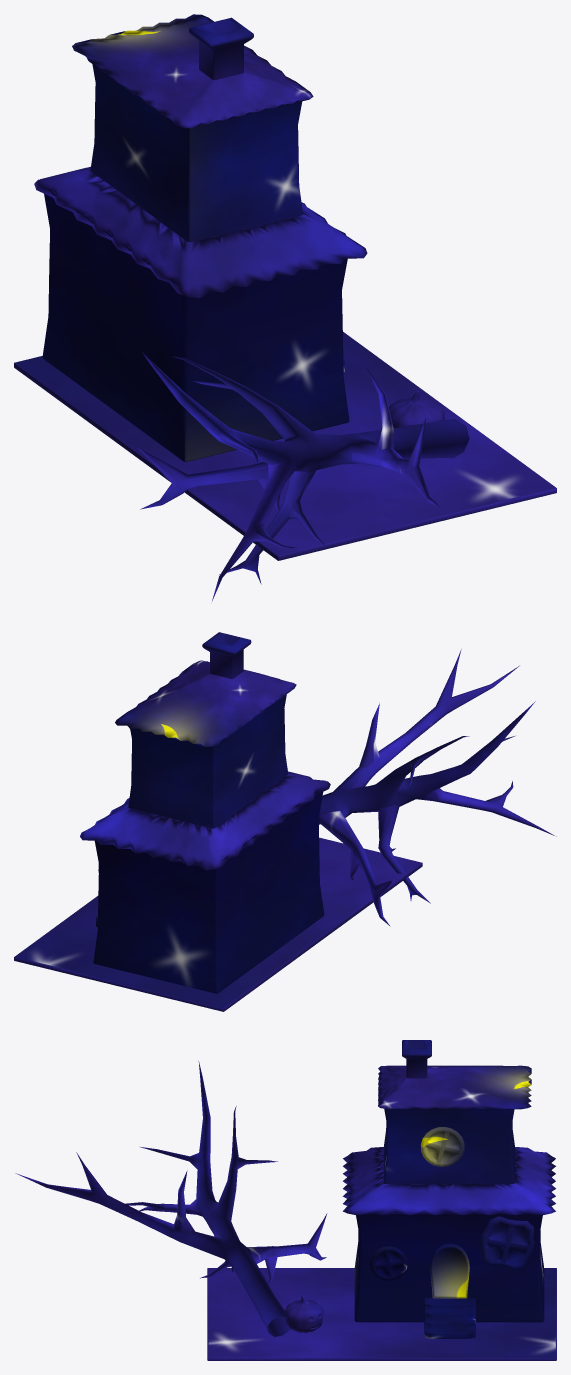
Rendered from casa.obj.
3 renders of one model, top to bottom at view 1: azimuth 30°, elevation 25°; view 2: azimuth 150°, elevation 25°; view 3: azimuth 270°, elevation 25°, orthographic. The views are drawn at different scales.
Parts seen in each view (by area): view 1: Cube_001; view 2: Cube_001; view 3: Cube_001.
Part boxes in pixels (left/top/right/bottom): Cube_001: left=14, top=14, right=556, bottom=601; Cube_001: left=14, top=632, right=556, bottom=1011; Cube_001: left=15, top=1040, right=556, bottom=1360.
Bounding box in the file's own units: 15.59 × 15.12 × 26.27.
1 material, 1 textured.
